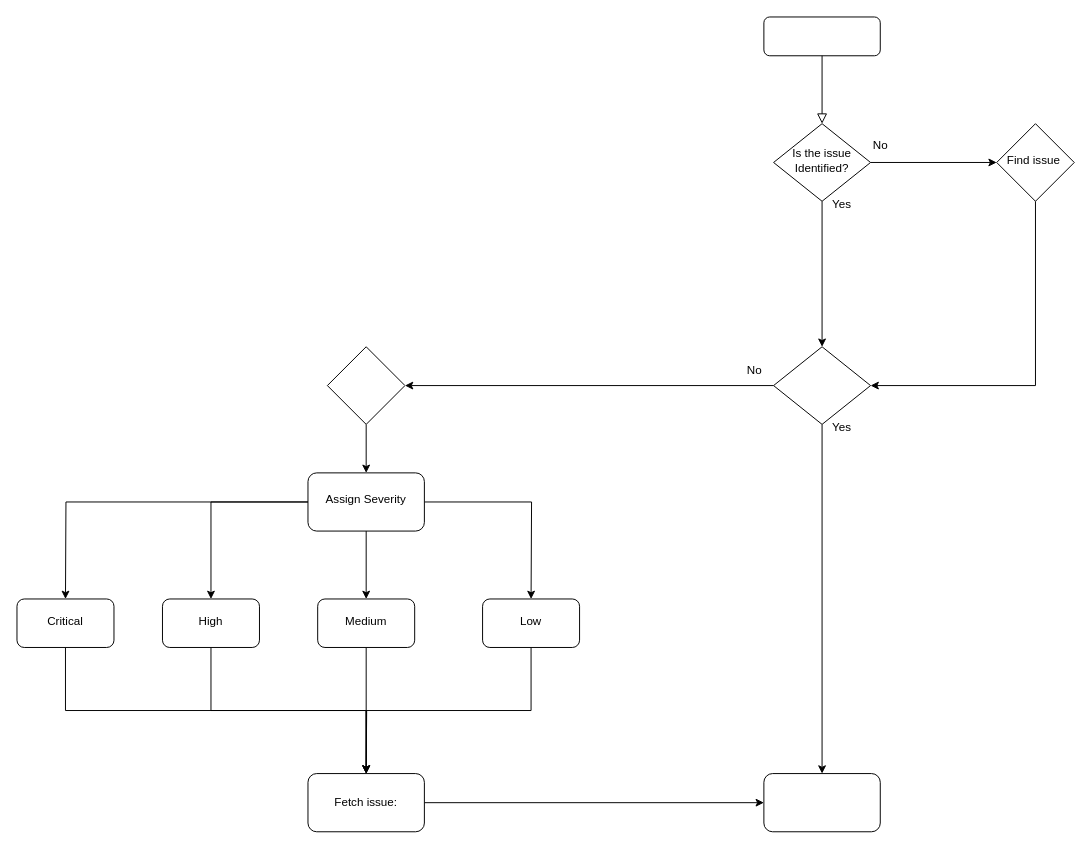
Some shapes in this 1091 by 849 pixel diagram are drawn without their labels. The shapes that lost their labels are listed below. From the top down, each one's centre as x and y in pixels, then its label:
At (x=821, y=36): "Start".
At (x=365, y=385): "Not Found".
At (x=822, y=385): "Has the issue been given a severity?".
At (x=821, y=802): "Print issue + severity".
